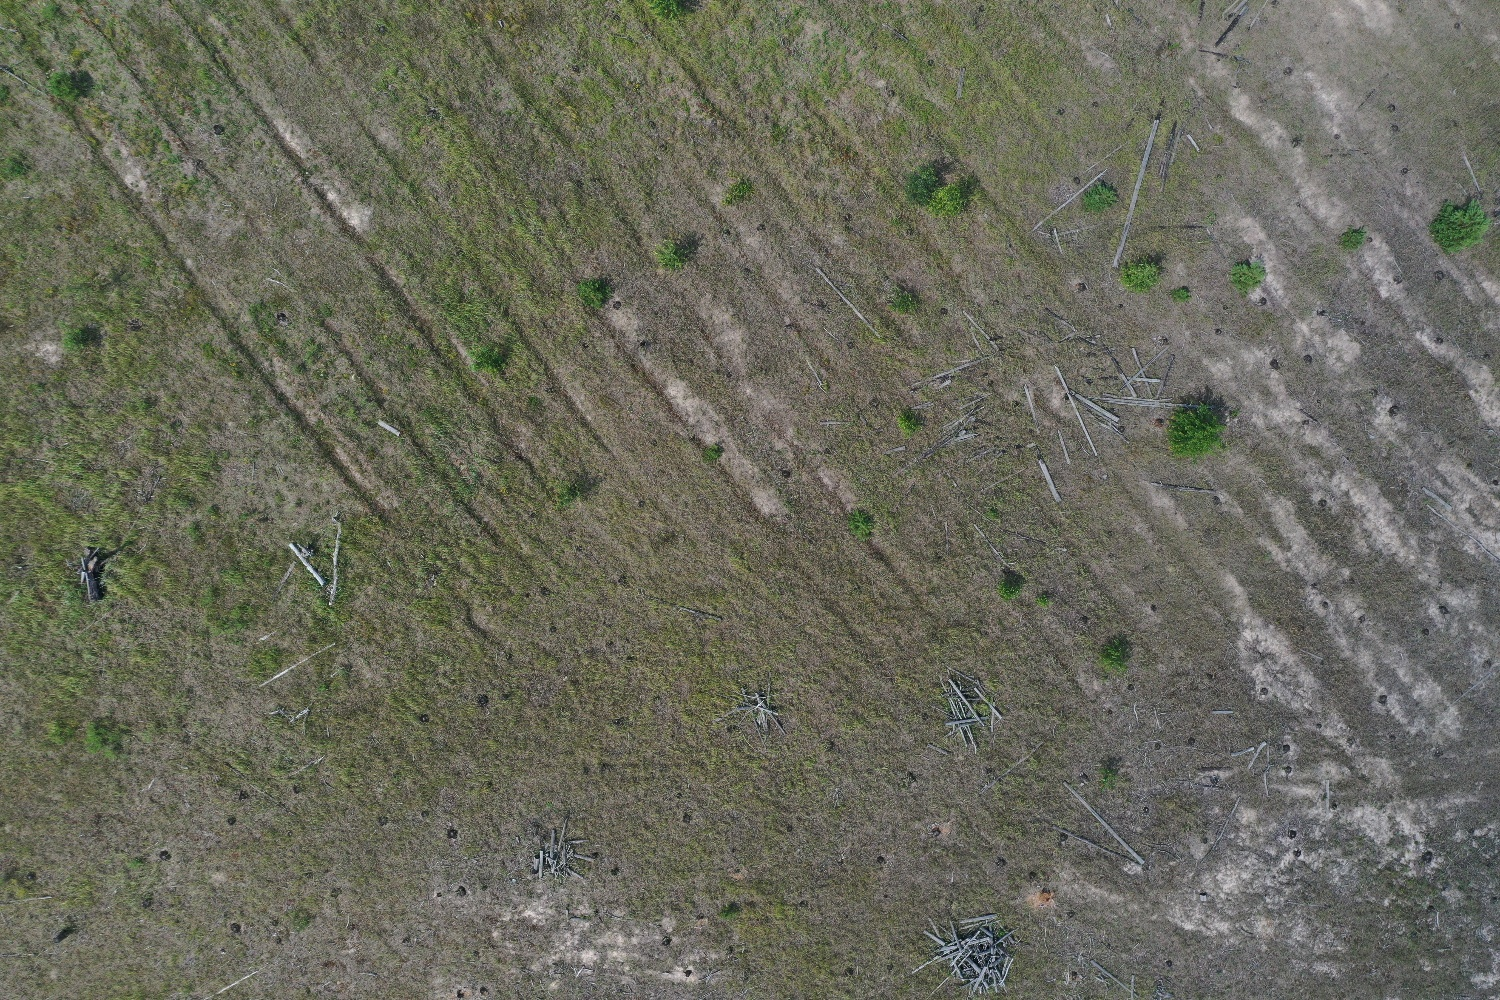branches: (916, 910, 1021, 994), (936, 665, 1003, 754), (715, 675, 789, 740), (530, 814, 595, 882)
